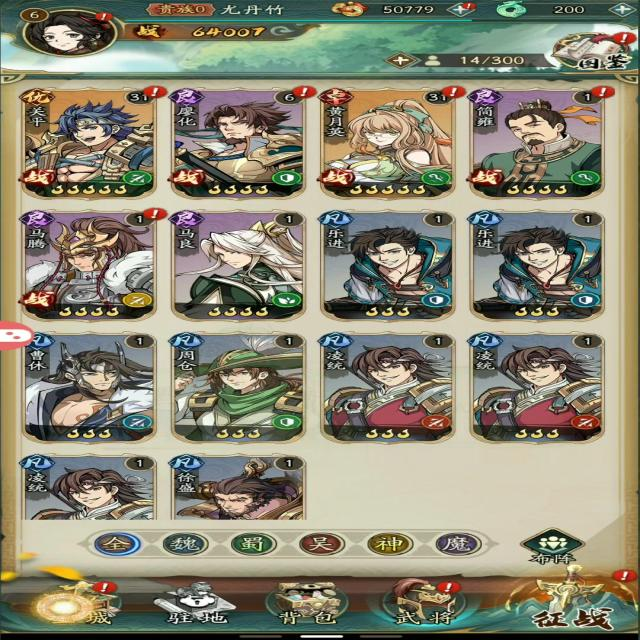hint-reddot: (430, 581, 465, 596), (141, 206, 173, 222), (608, 568, 640, 584), (584, 86, 619, 100), (290, 86, 320, 100), (89, 581, 119, 595), (439, 86, 468, 100), (612, 31, 639, 46), (141, 86, 168, 100), (88, 10, 117, 23), (450, 1, 480, 12)
navigation-bag: (257, 574, 364, 624)
navigation-fight: (496, 570, 636, 633)
navigation-hero: (382, 573, 476, 627)
navigation-main: (24, 574, 126, 636)
navigation-myHeroes: (167, 86, 309, 202), (468, 87, 610, 201), (20, 86, 160, 201), (167, 213, 307, 326), (17, 212, 157, 324), (167, 335, 308, 446), (319, 332, 458, 444), (318, 93, 460, 201), (23, 332, 159, 443), (473, 339, 608, 447), (471, 216, 605, 324), (336, 220, 458, 322), (164, 453, 309, 521), (20, 455, 159, 521)
navigation-role: (15, 2, 126, 58)
navigation-station-off: (130, 578, 255, 629)
operation-HeroAddBag: (372, 48, 452, 71)
operation-Vip: (144, 0, 223, 22)
operation-camp: (364, 533, 419, 560), (225, 532, 280, 558), (428, 534, 482, 560), (294, 534, 348, 560), (94, 533, 146, 558), (163, 534, 212, 559)
operation-deployment: (516, 526, 589, 568)
